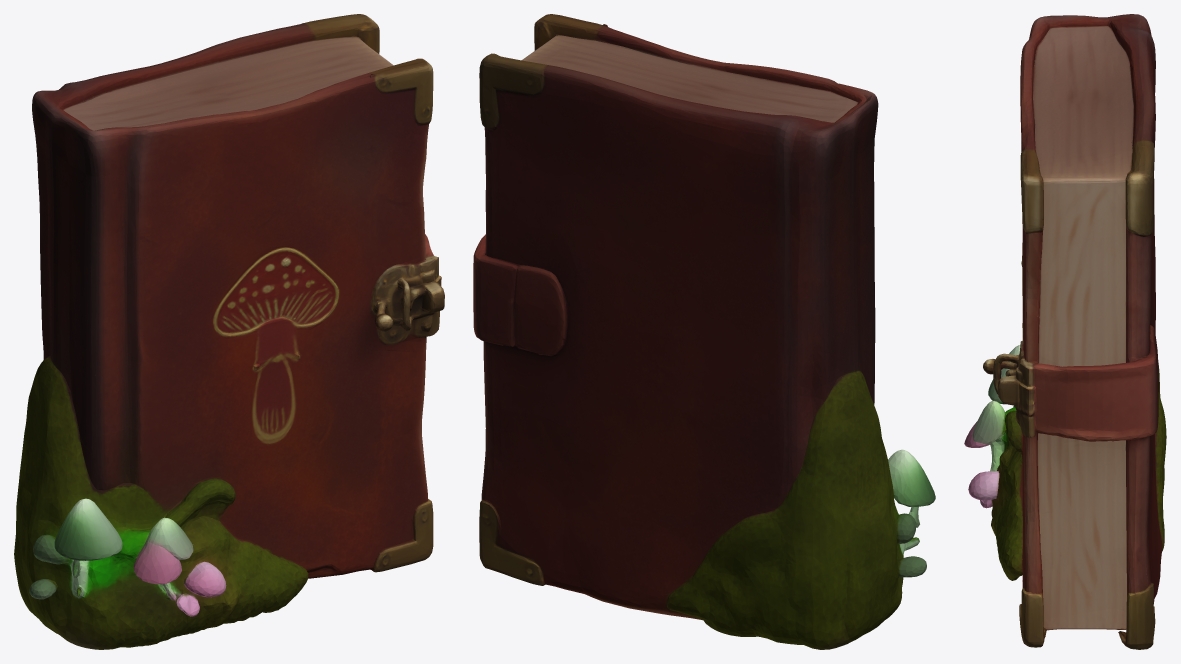
Rendered from blog-prop.glb.
3 renders of one model, left to right at view 1: azimuth 30°, elevation 25°; view 2: azimuth 150°, elevation 25°; view 3: azimuth 270°, elevation 25°, orthographic. The views are drawn at different scales.
Parts seen in each view (by area): view 1: geometry_0; view 2: geometry_0; view 3: geometry_0.
Boxes of the visible parts, left/top/right/bottom form: geometry_0: left=14, top=14, right=444, bottom=649; geometry_0: left=473, top=14, right=935, bottom=649; geometry_0: left=964, top=14, right=1166, bottom=649.
Bounding box in the file's own units: 0.8229 × 0.9963 × 0.3714.
1 material, 1 textured.
